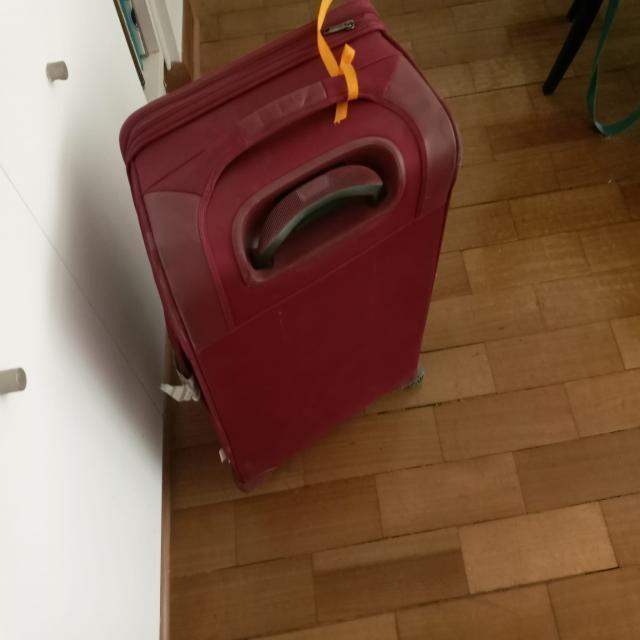Suitcase: (124, 3, 465, 497)
